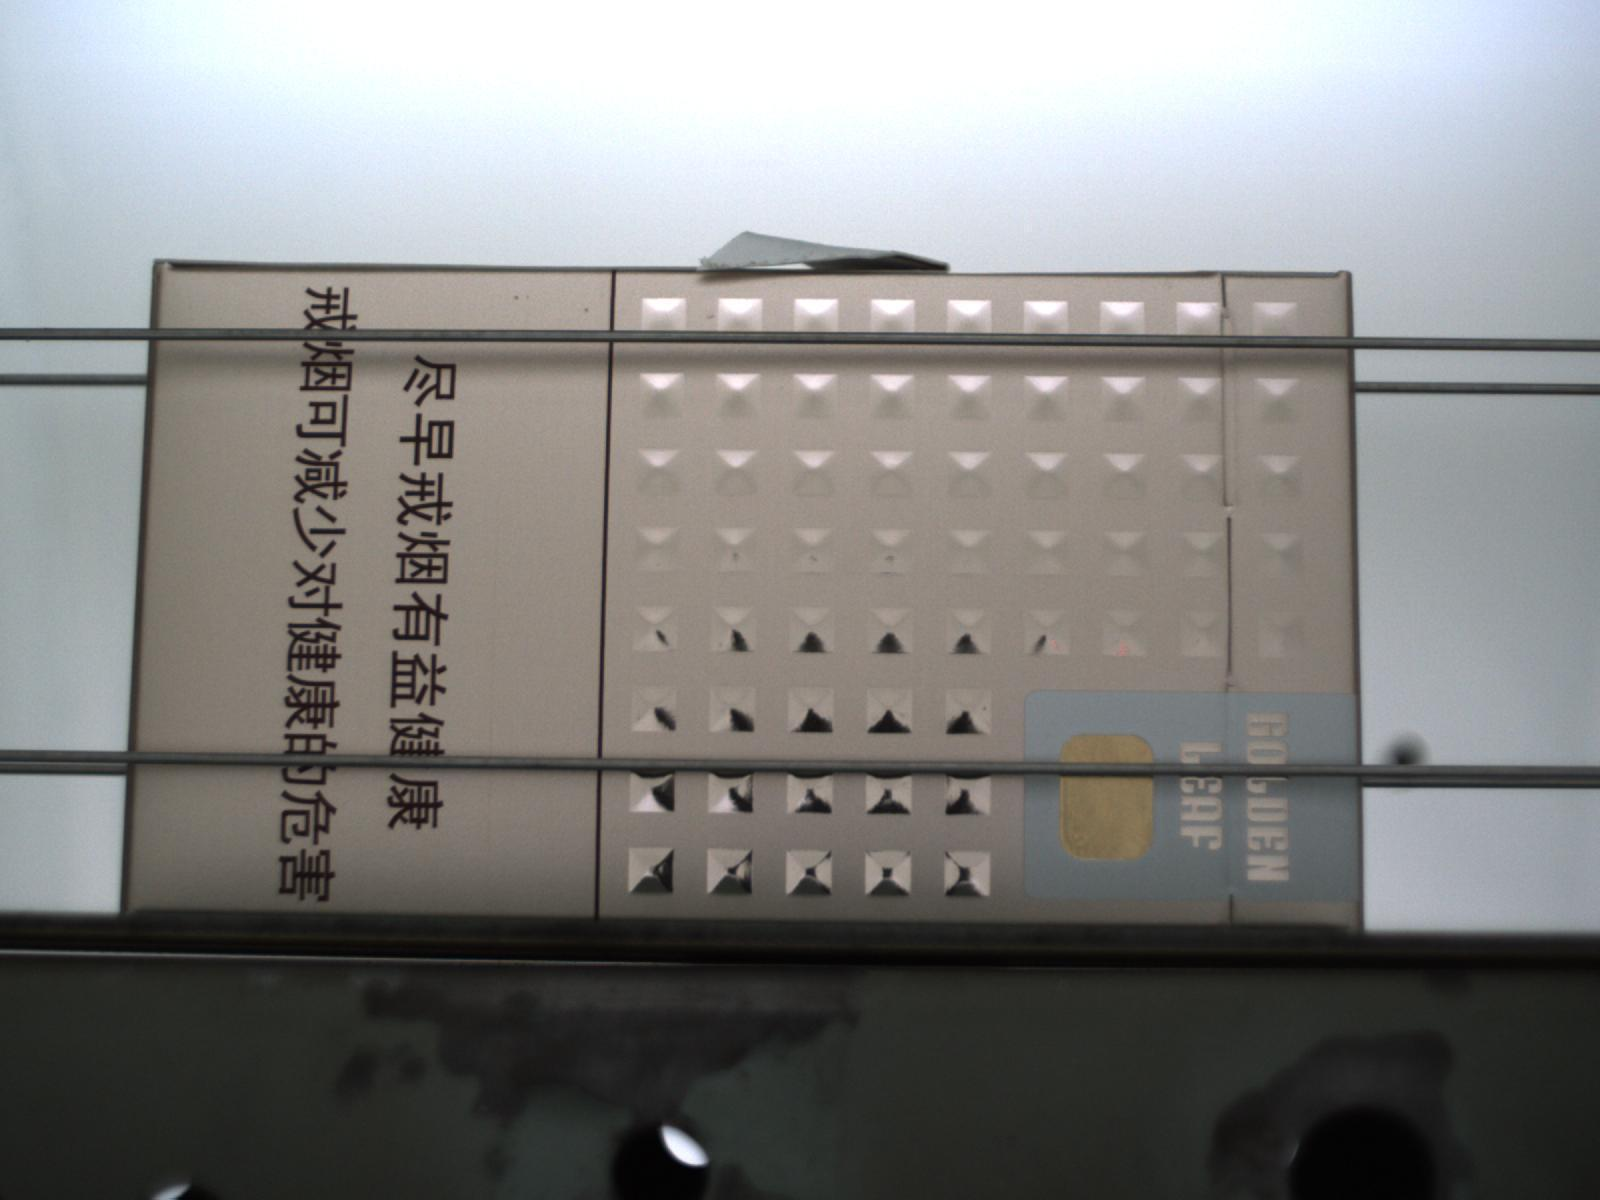dirtyScratch: (479, 608, 505, 848)
dirtySpot: (511, 292, 524, 304), (581, 305, 592, 316), (707, 311, 716, 321)
outerFold_upper_01: (694, 227, 956, 282)
